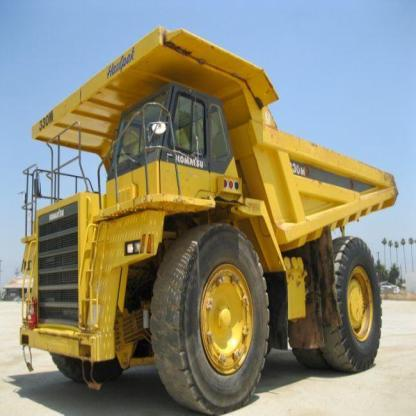dump_truck: (18, 24, 401, 410)
